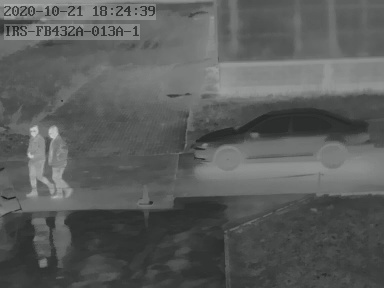person: (48, 122, 72, 196), (27, 122, 48, 194)
vehicle: (191, 106, 373, 170)
